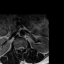CCS_normal: (20, 44, 22, 53)
LFS_normal: (24, 44, 26, 51)
LLS_normal: (22, 44, 24, 51)
RFS_normal: (16, 45, 18, 51)
RLS_normal: (18, 44, 20, 51)
